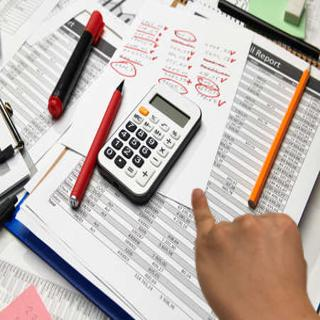FINE: (179, 183, 320, 320)
